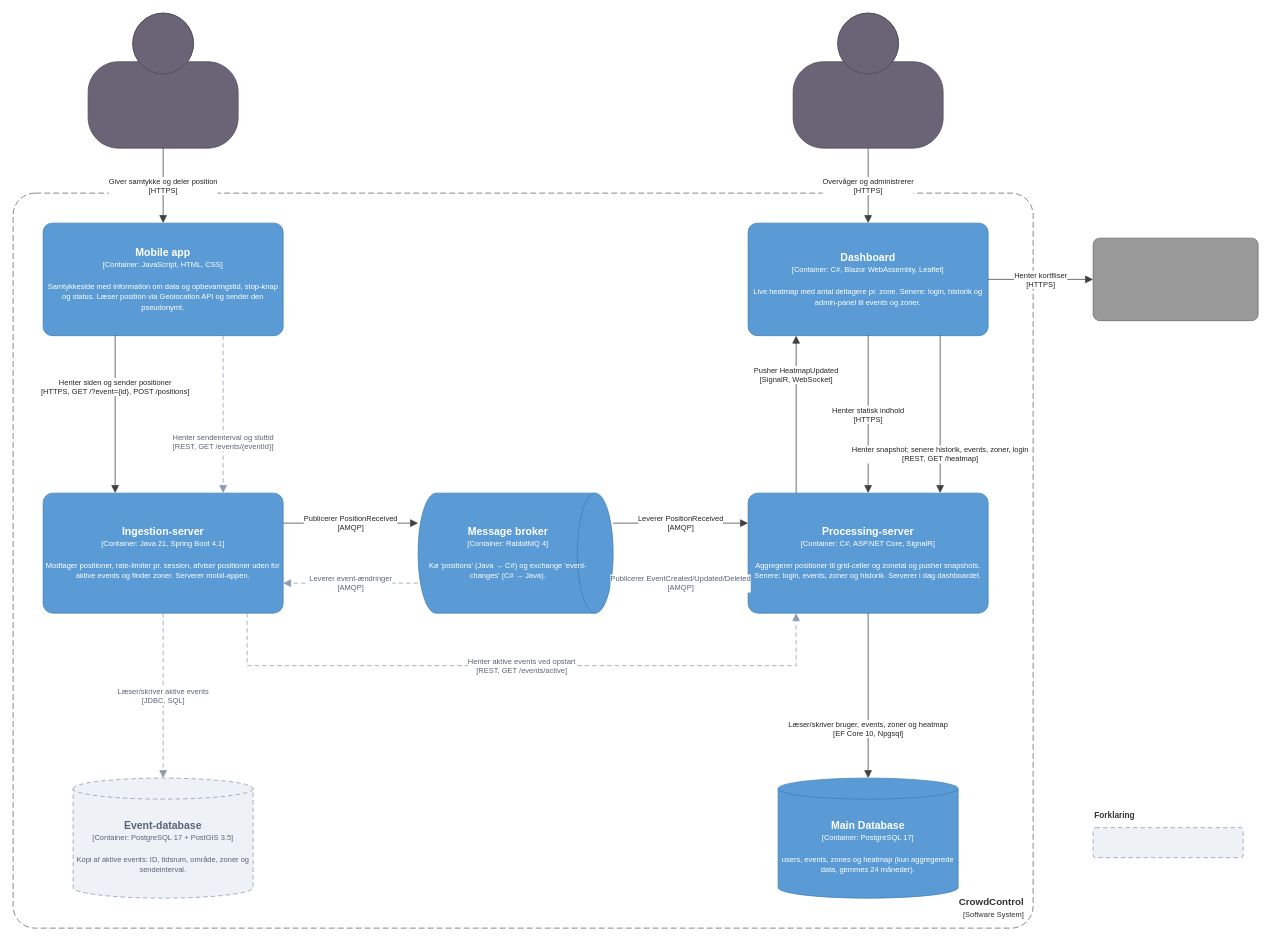
This 1271x941 diagram has some shape labels left out. The shapes that lost their labels are listed below. From the top down, each one's centre as x and y in pixels, then its label:
the point at 162,80: Deltager [Person]
the point at 867,80: Arrangør [Person]
the point at 1175,279: OpenStreetMap [Software System, ekstern] Kortfliser
the point at 1167,842: Stiplet grå: planlagt (ikke implementeret endnu)
